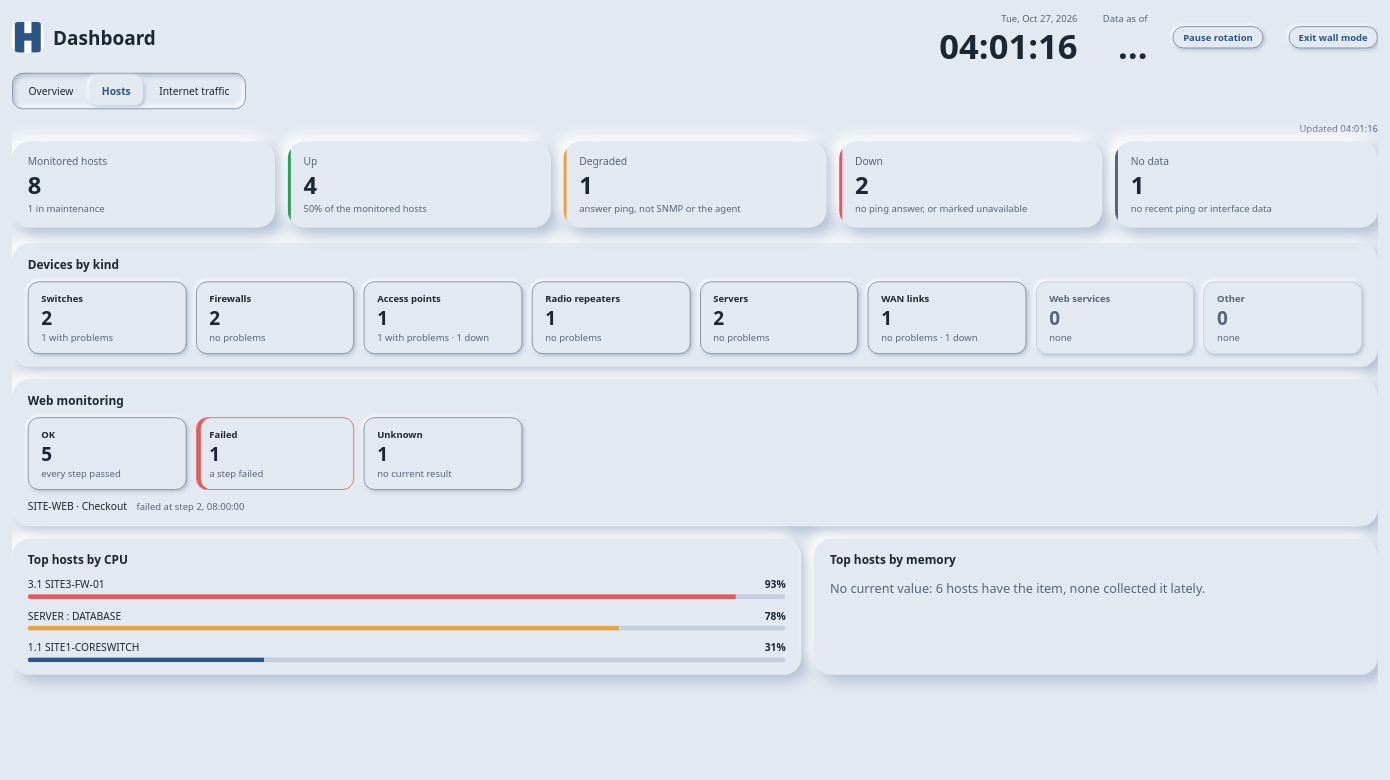
the wall screen turning by itself › stops at Pause, where it is, and goes on at Resume
Expected: the element named "Dashboard view" is shown, [12,73,246,109]
Click the button "Pause rotation": (1218,38) [1173,26,1263,49]
Wait 300000 ms
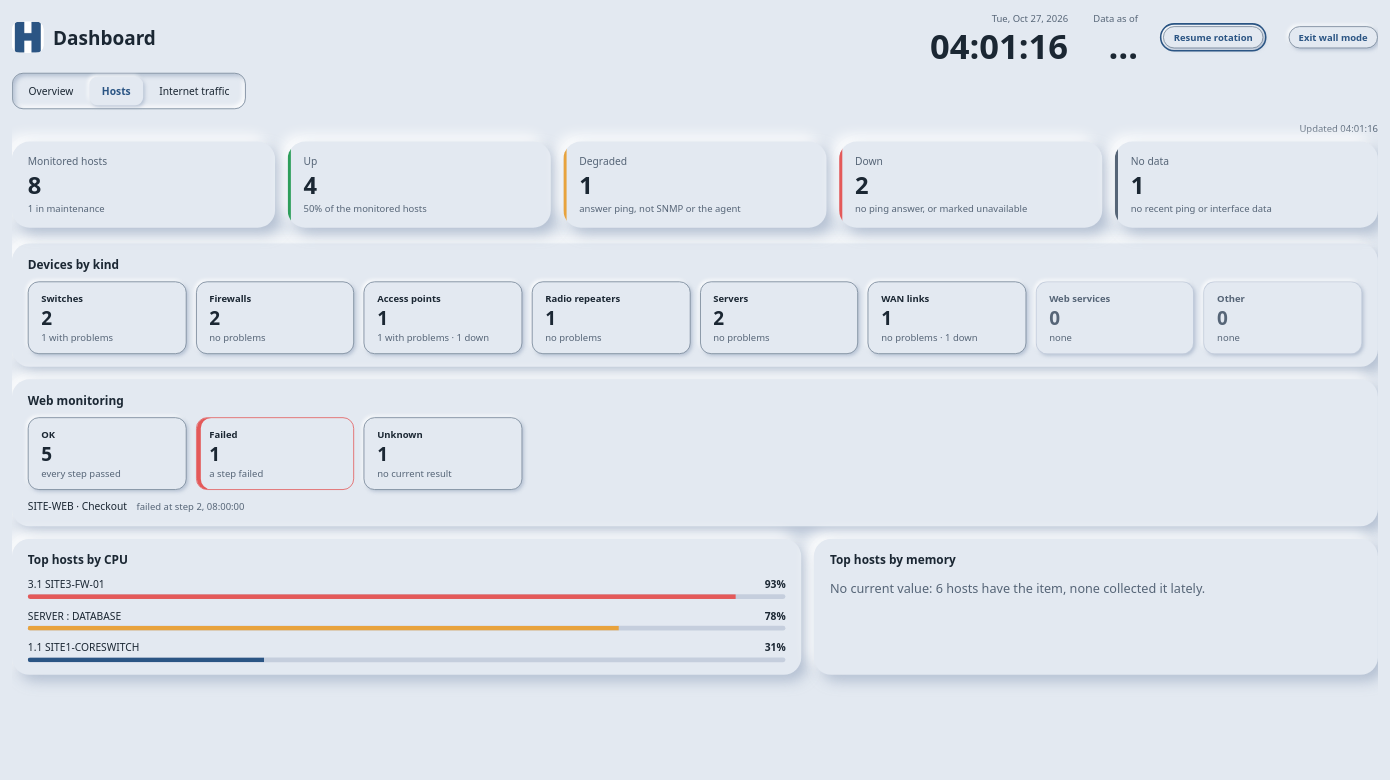
Expected: the tab "Hosts" is shown, [89,77,143,105]
Result: the button "Resume rotation" is shown
Click the button "Resume rotation": (1213,38) [1163,26,1263,49]
Wait 30000 ms
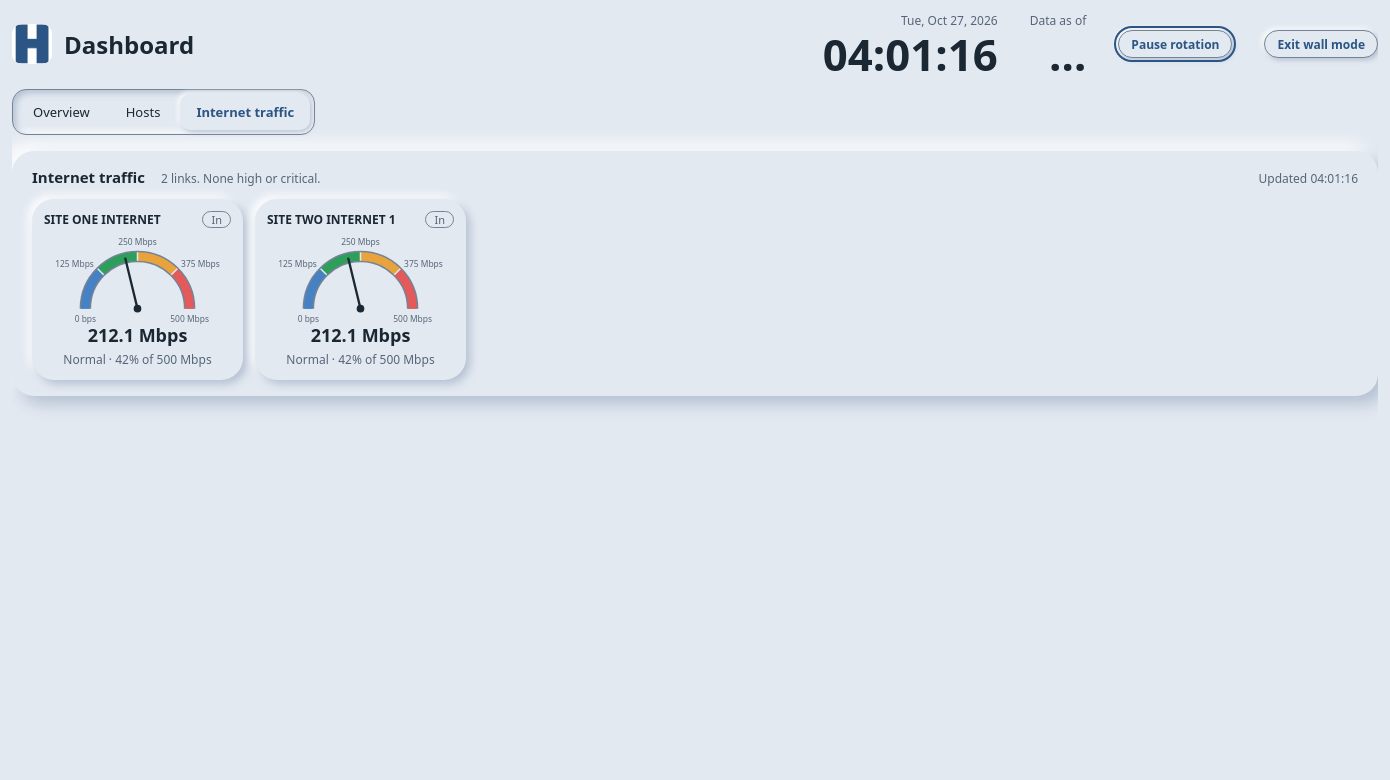
Expected: the tab "Internet traffic" is shown, [180,94,310,130]
Result: the button "Pause rotation" is shown at [1118,30,1232,58]
